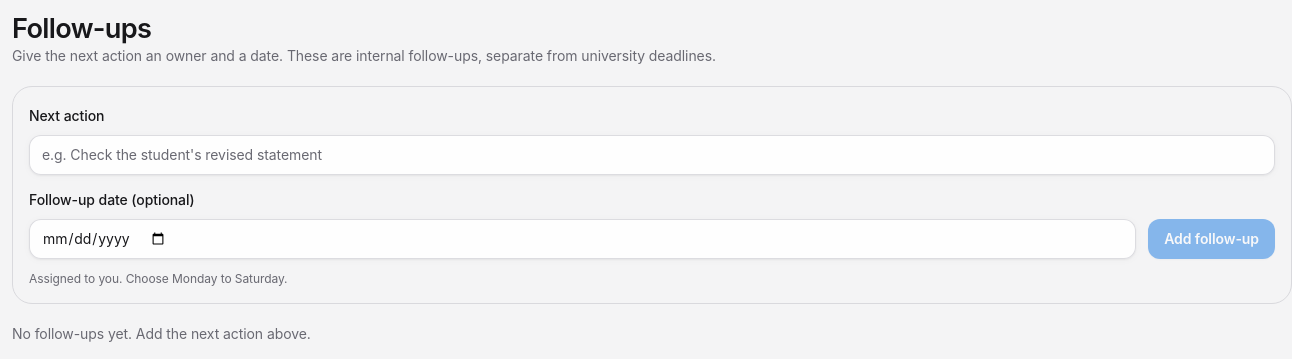
Scenario: application follow-up actions › creates an assigned action and clears the form only after success
The image size is (1292, 359).
Expected: the text "No follow-ups yet. Add the next action above." is shown, [12,325,311,342]
Type "Check statement" into the field labelled "Next action".
click(652, 155); type("Check statement")  # box [29,135,1275,175]
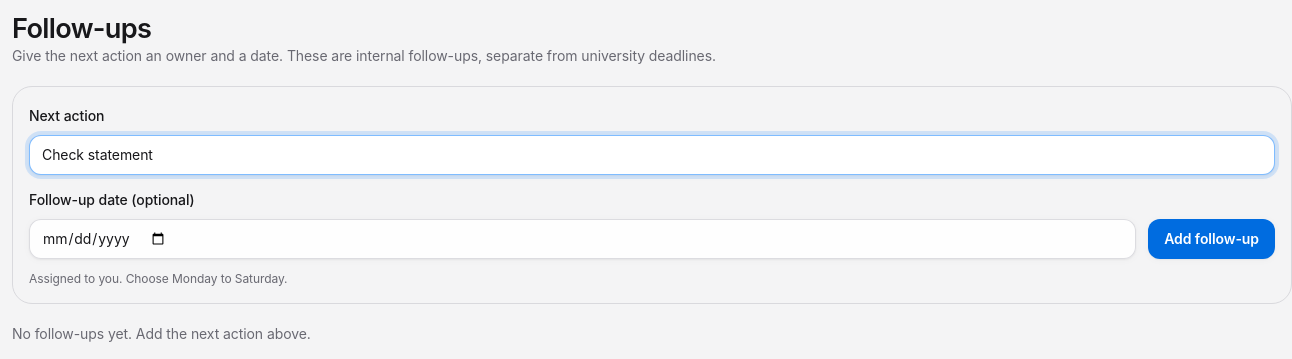
Click the button "Add follow-up".
click(1212, 239)  # box [1148,219,1275,259]
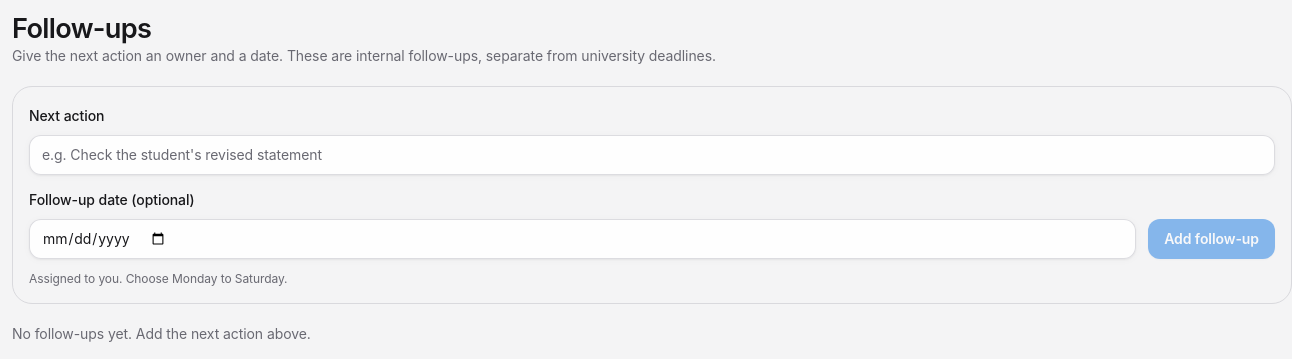
Now the field labelled "Next action" is empty, box [29,135,1275,175]
